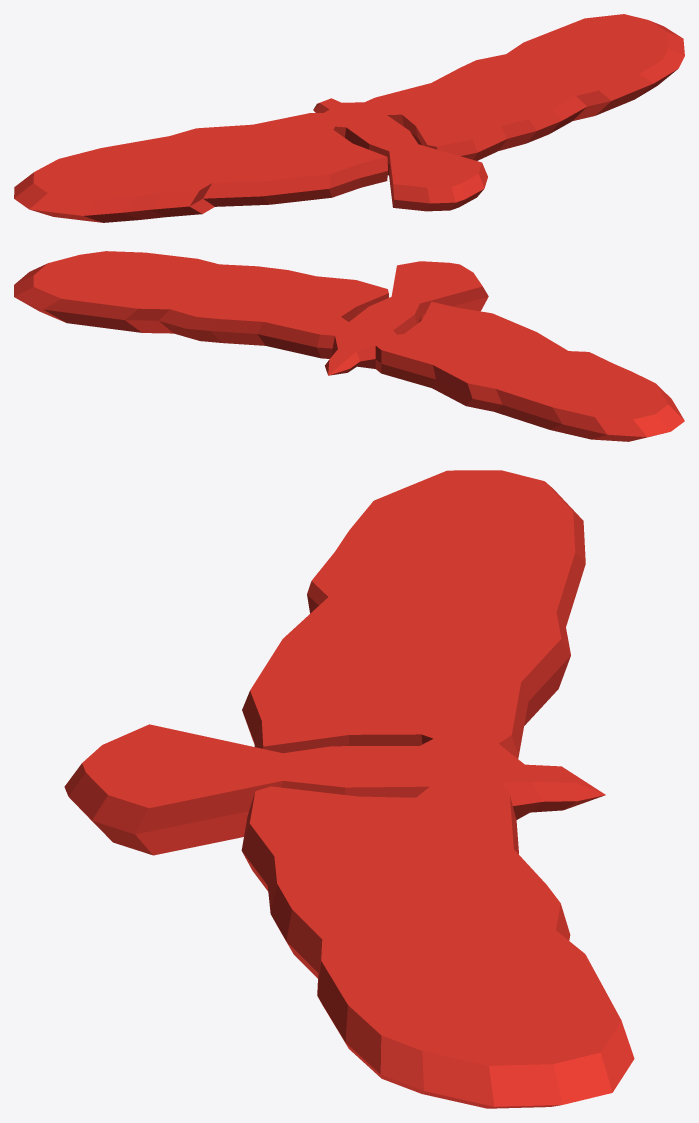
The model's file is birb.fbx.
3 renders of one model, top to bottom at view 1: azimuth 30°, elevation 25°; view 2: azimuth 150°, elevation 25°; view 3: azimuth 270°, elevation 25°, orthographic. The views are drawn at different scales.
Visible parts, largest first — view 1: Plane; view 2: Plane; view 3: Plane.
Part boxes in pixels (x1=…): Plane: x1=14, y1=14, x2=684, y2=222; Plane: x1=14, y1=251, x2=684, y2=441; Plane: x1=64, y1=470, x2=634, y2=1108.
Bounding box in the file's own units: 72.54 × 2.61 × 27.77.
